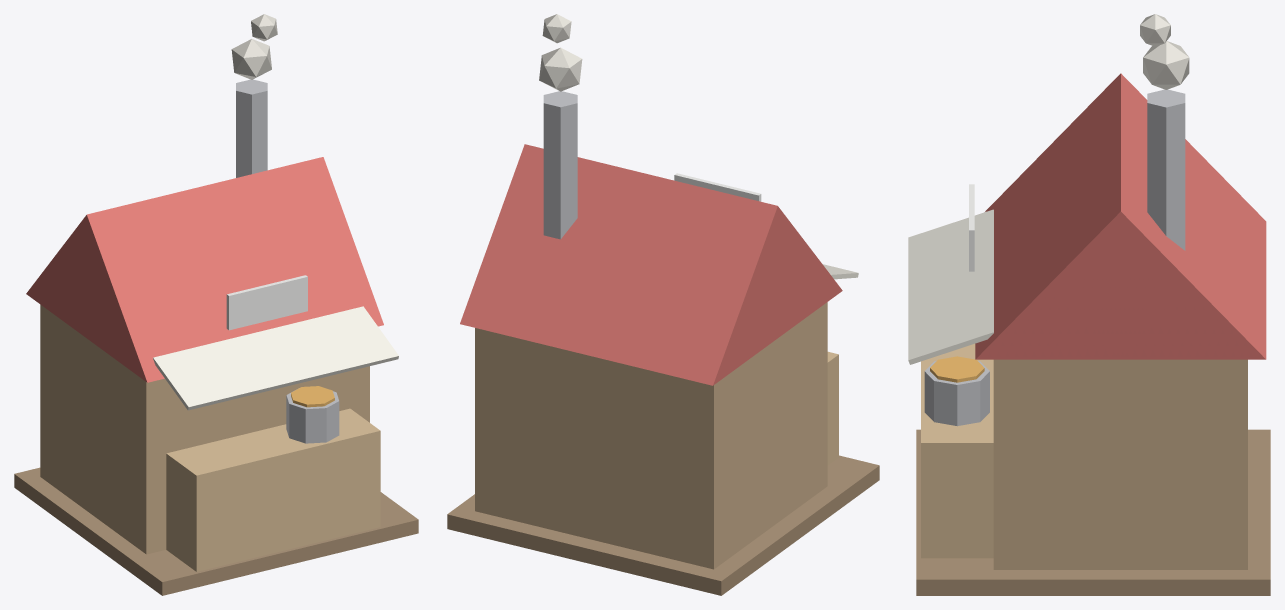
The model's file is kitchen_mess_tent.glb.
3 views of the same model, side by side, from view 1: azimuth 30°, elevation 25°; view 2: azimuth 150°, elevation 25°; view 3: azimuth 270°, elevation 25° (orthographic). The views are drawn at different scales.
Visible parts, largest first — view 1: Kitchen_Mess_Tent; view 2: Kitchen_Mess_Tent; view 3: Kitchen_Mess_Tent.
Boxes of the visible parts, x1=… form: Kitchen_Mess_Tent: x1=14, y1=14, x2=418, y2=595; Kitchen_Mess_Tent: x1=447, y1=14, x2=879, y2=595; Kitchen_Mess_Tent: x1=908, y1=14, x2=1270, y2=595.
Size of the model in its own units: 1.95 by 3.34 by 2.
